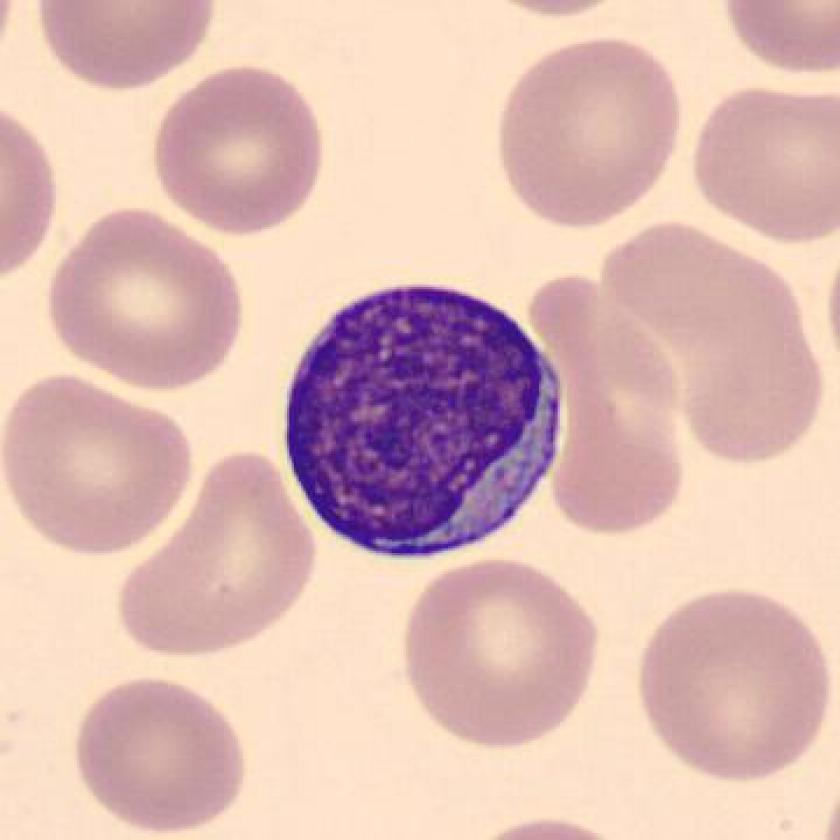lymphocyte: (267, 265, 584, 579)
